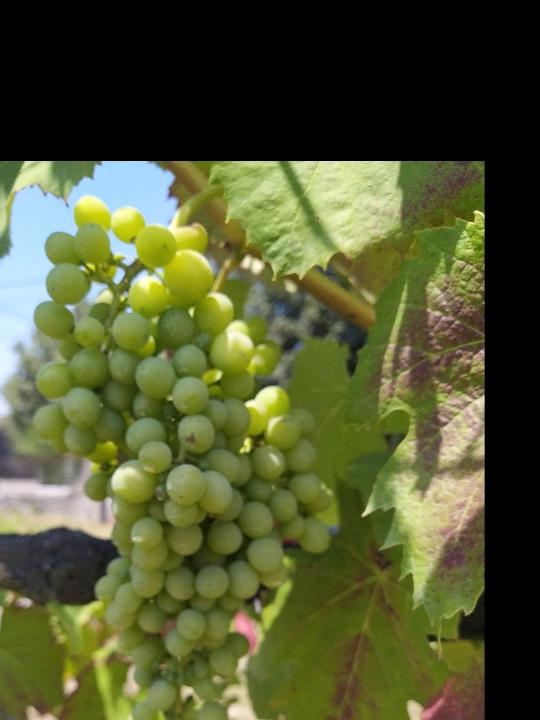grape: (30, 195, 335, 720)
